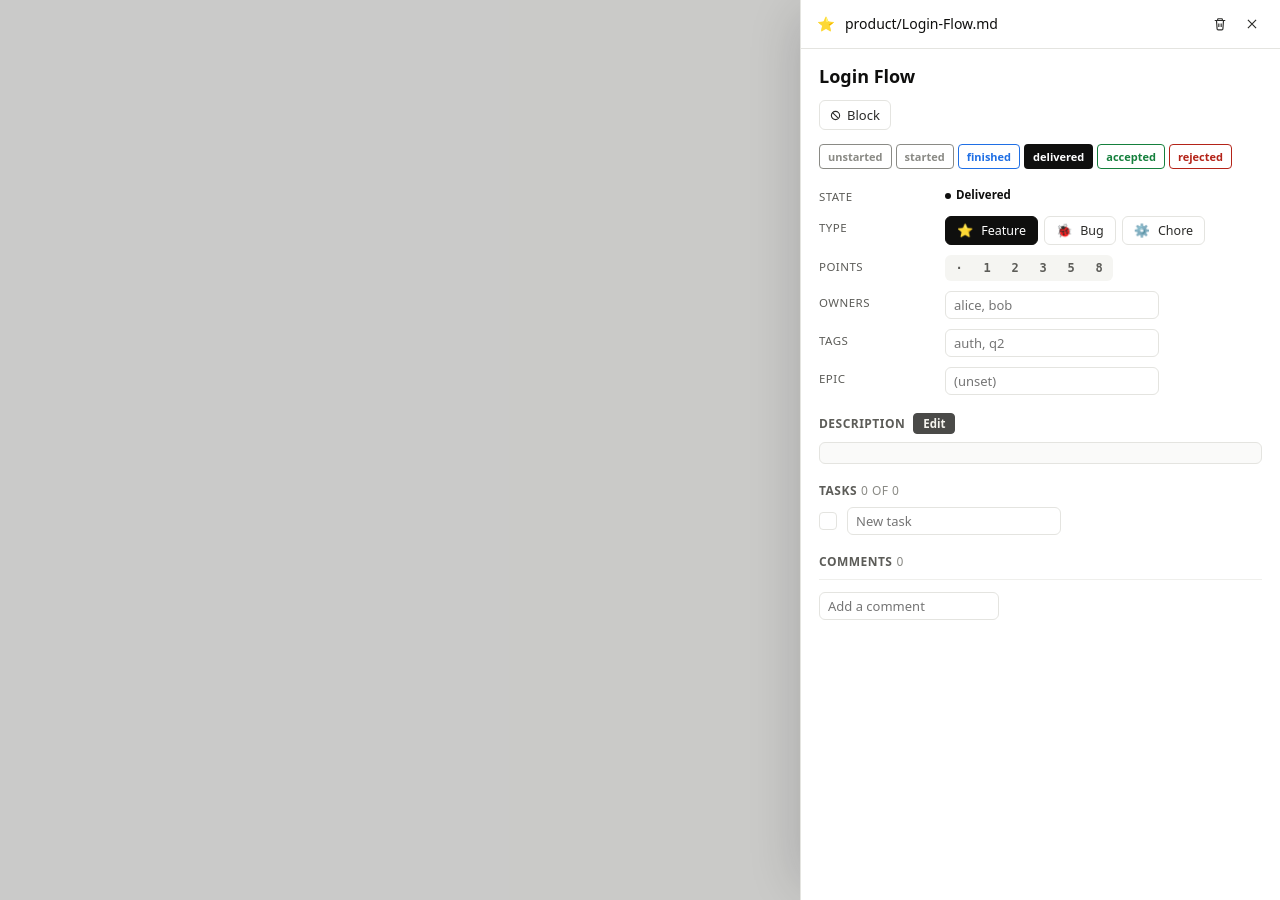
Test: DetailPanel: state-machine buttons › opening Block closes any other ceremony that was already open (mutually exclusive)
Click the button "accepted" at [1131, 157], box [1097,144,1165,169]
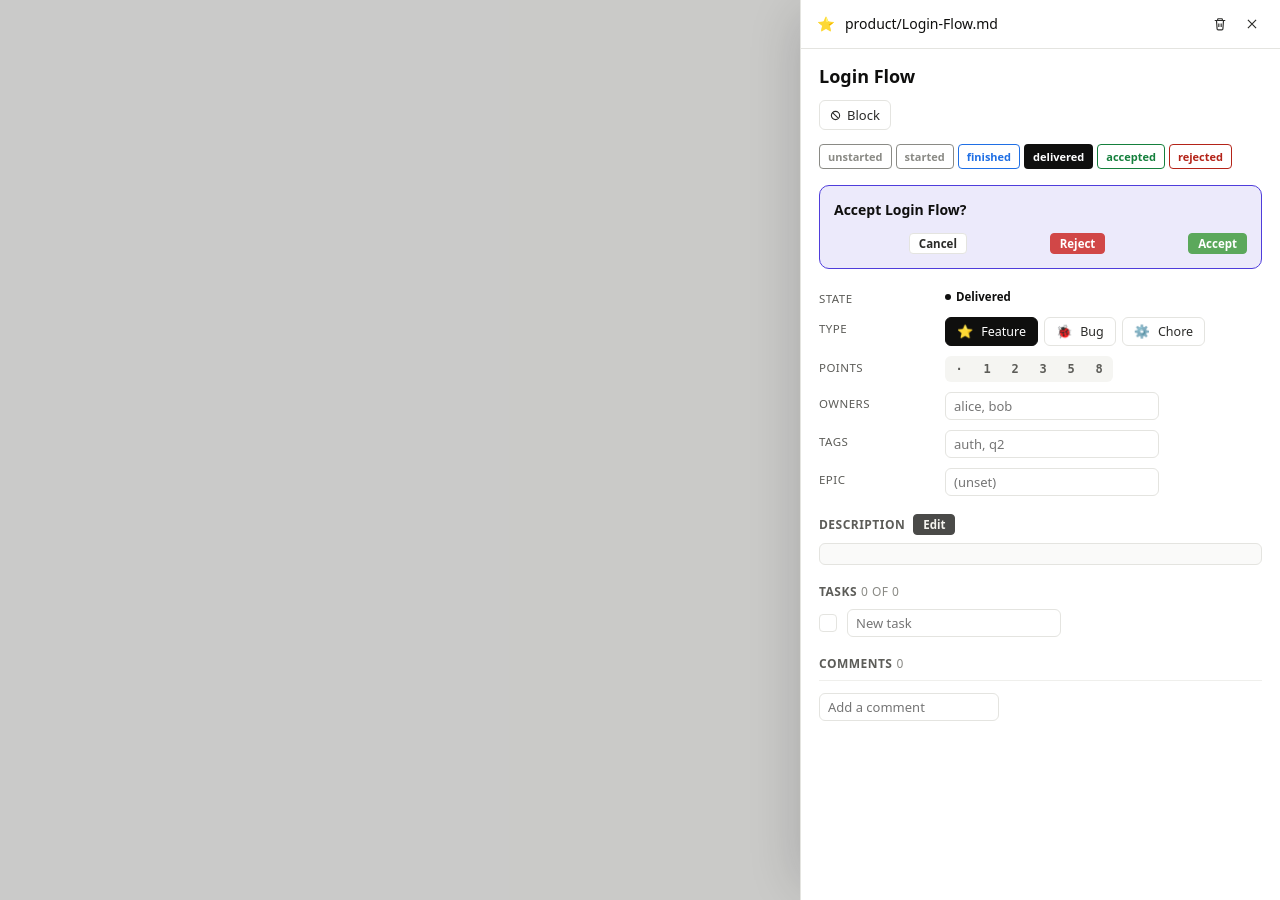
Result: the dialog named "PM acceptance ceremony" is shown at [819,185,1262,269]
Click the button "Block" at [855, 115], box [819,100,891,130]
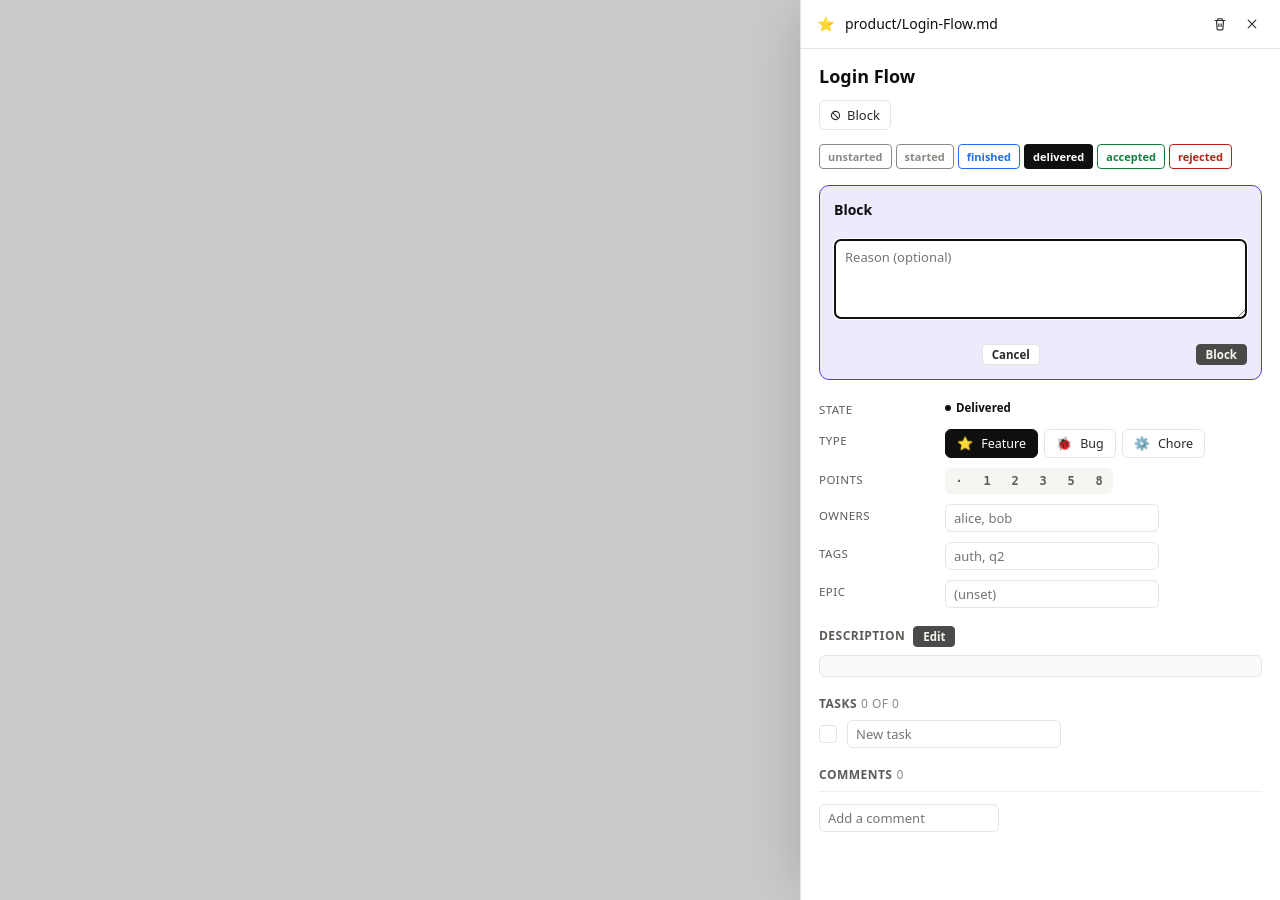
Result: the dialog named "Block with reason" is shown at [819,185,1262,380]
